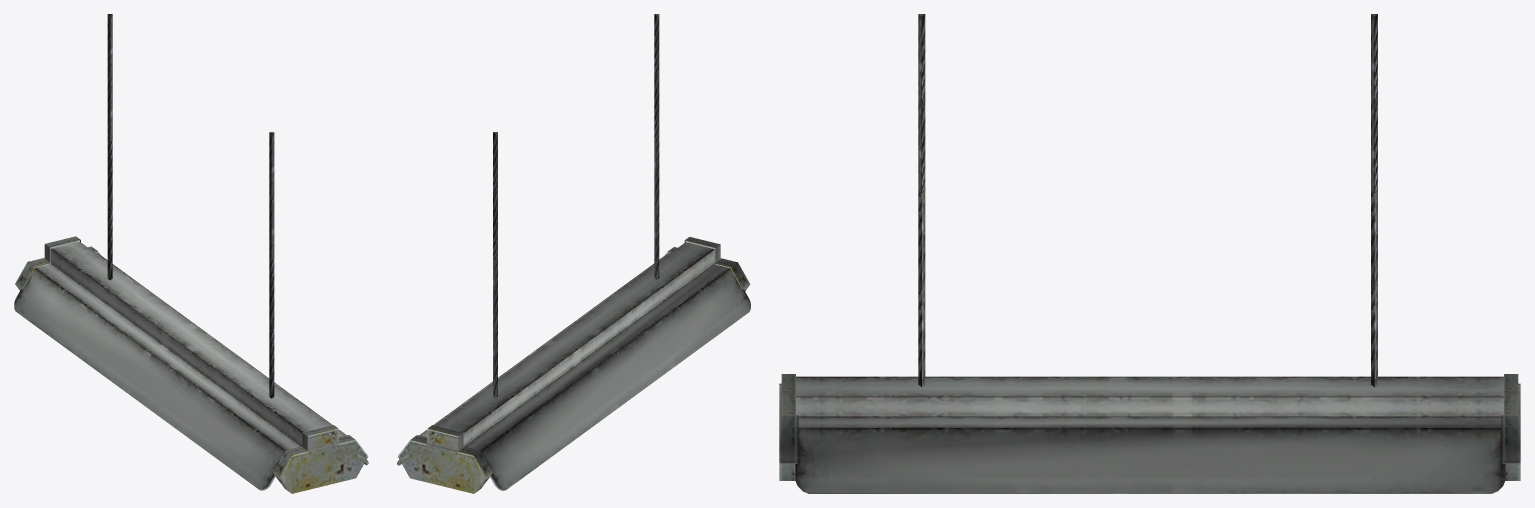
Rendered from garage_ceiling_light.fbx.
The picture shows the model from 3 angles, left to right: view 1: azimuth 30°, elevation 25°; view 2: azimuth 150°, elevation 25°; view 3: azimuth 270°, elevation 25°; orthographic projection. The views are drawn at different scales.
Visible parts, largest first — view 1: garage_ceiling_light.001; view 2: garage_ceiling_light.001; view 3: garage_ceiling_light.001.
Boxes of the visible parts, left/top/right/bottom form: garage_ceiling_light.001: left=14, top=14, right=368, bottom=493; garage_ceiling_light.001: left=397, top=14, right=750, bottom=493; garage_ceiling_light.001: left=779, top=14, right=1520, bottom=493.
Size of the model in its own units: 0.393 by 1.1 by 1.66.
Materials: 1 (1 with a texture image).
